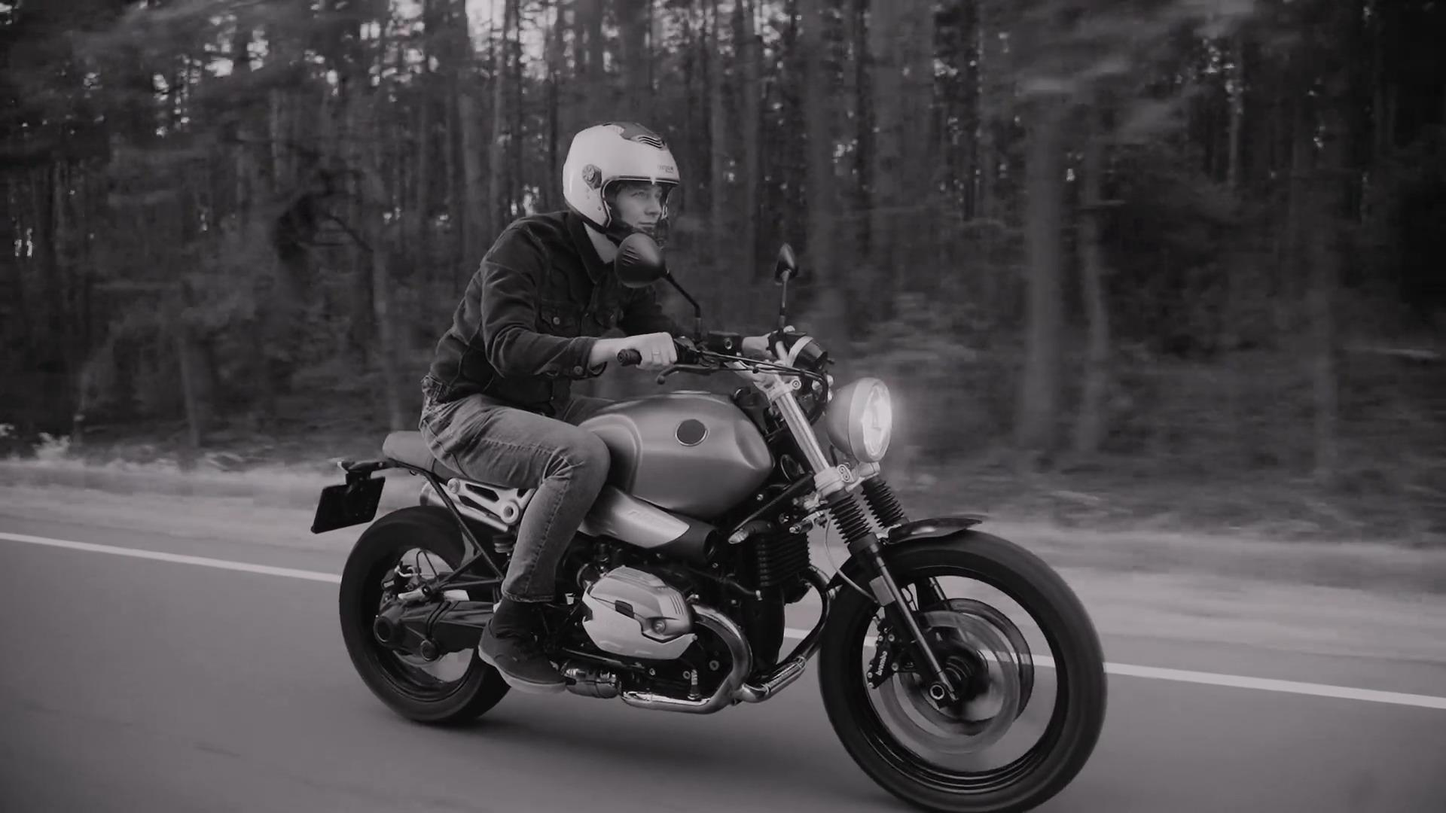driver: (310, 120, 1108, 813)
helmet: (562, 119, 683, 254)
